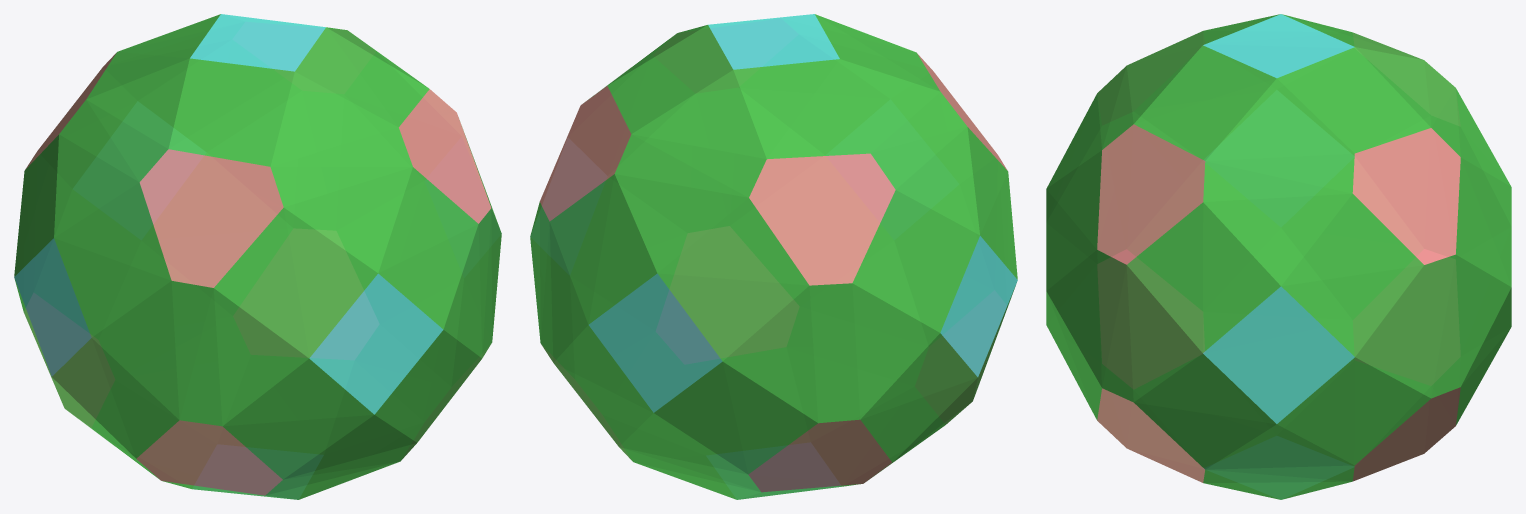
Rendered from BiscribedSnubTruncatedOctahedron.obj.
3 renders of one model, left to right at view 1: azimuth 30°, elevation 25°; view 2: azimuth 150°, elevation 25°; view 3: azimuth 270°, elevation 25°, orthographic.
Bounding box in the file's own units: 2 × 2 × 2.
